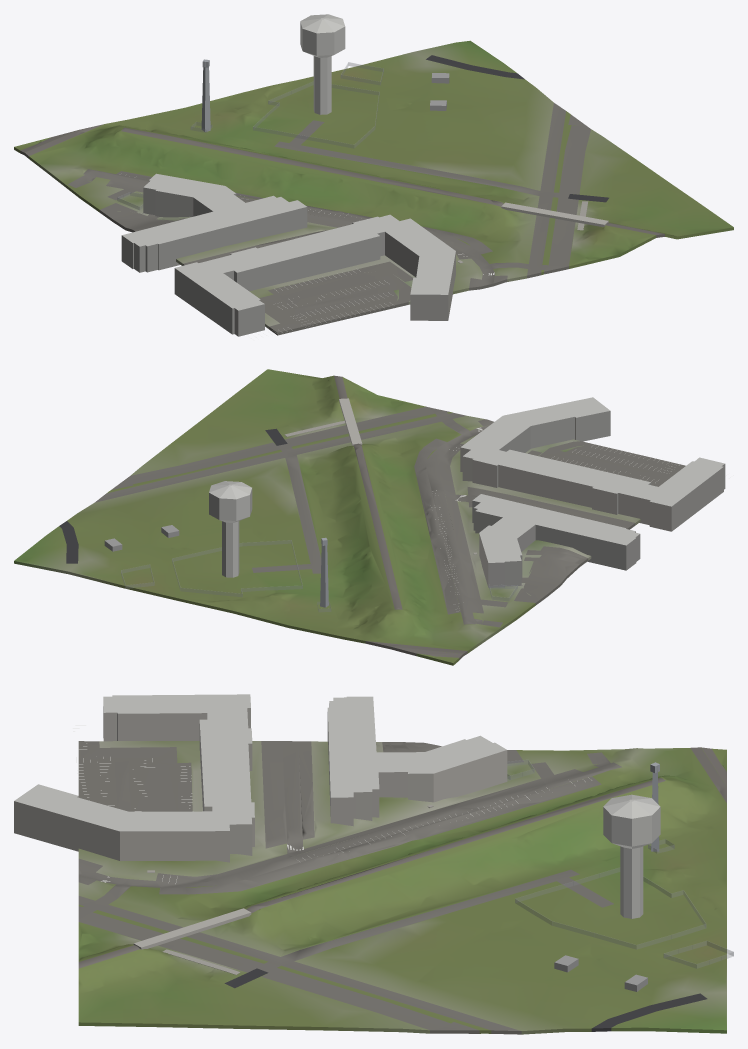
3 renders of one model, top to bottom at view 1: azimuth 30°, elevation 25°; view 2: azimuth 150°, elevation 25°; view 3: azimuth 270°, elevation 25°, orthographic. The views are drawn at different scales.
Visible parts, largest first — view 1: D-1--4.L0:utd:matte, D-1--4.L0:utd:matte:flat, D-1--4.L0:utd:glass:flat, D-1--4.L0:utd:metal:flat; view 2: D-1--4.L0:utd:matte, D-1--4.L0:utd:matte:flat, D-1--4.L0:utd:glass:flat, D-1--4.L0:utd:metal:flat; view 3: D-1--4.L0:utd:matte, D-1--4.L0:utd:matte:flat, D-1--4.L0:utd:glass:flat.
Part boxes in pixels (<box>): D-1--4.L0:utd:matte: <box>14,40,733,335</box>; D-1--4.L0:utd:matte:flat: <box>121,14,608,336</box>; D-1--4.L0:utd:glass:flat: <box>117,62,383,209</box>; D-1--4.L0:utd:metal:flat: <box>201,59,210,131</box>; D-1--4.L0:utd:matte: <box>14,369,685,665</box>; D-1--4.L0:utd:matte:flat: <box>104,397,725,587</box>; D-1--4.L0:utd:glass:flat: <box>121,540,517,611</box>; D-1--4.L0:utd:metal:flat: <box>320,537,328,607</box>; D-1--4.L0:utd:matte: <box>78,741,726,1034</box>; D-1--4.L0:utd:matte:flat: <box>14,694,660,991</box>; D-1--4.L0:utd:glass:flat: <box>507,760,733,968</box>.
Bounding box in the file's own units: 276 × 53.19 × 284.
